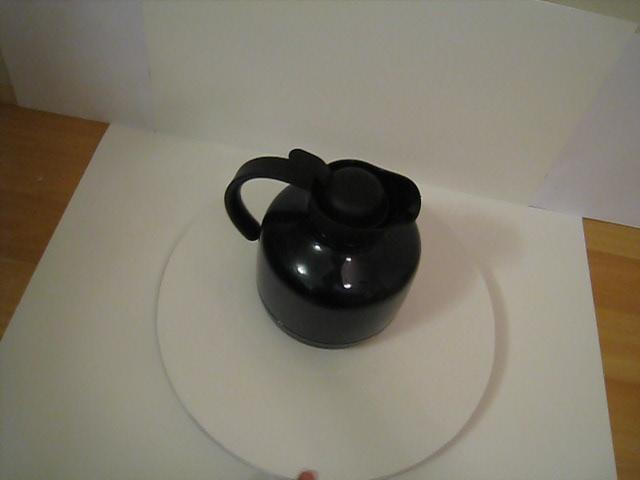pitcher: (207, 131, 435, 371)
